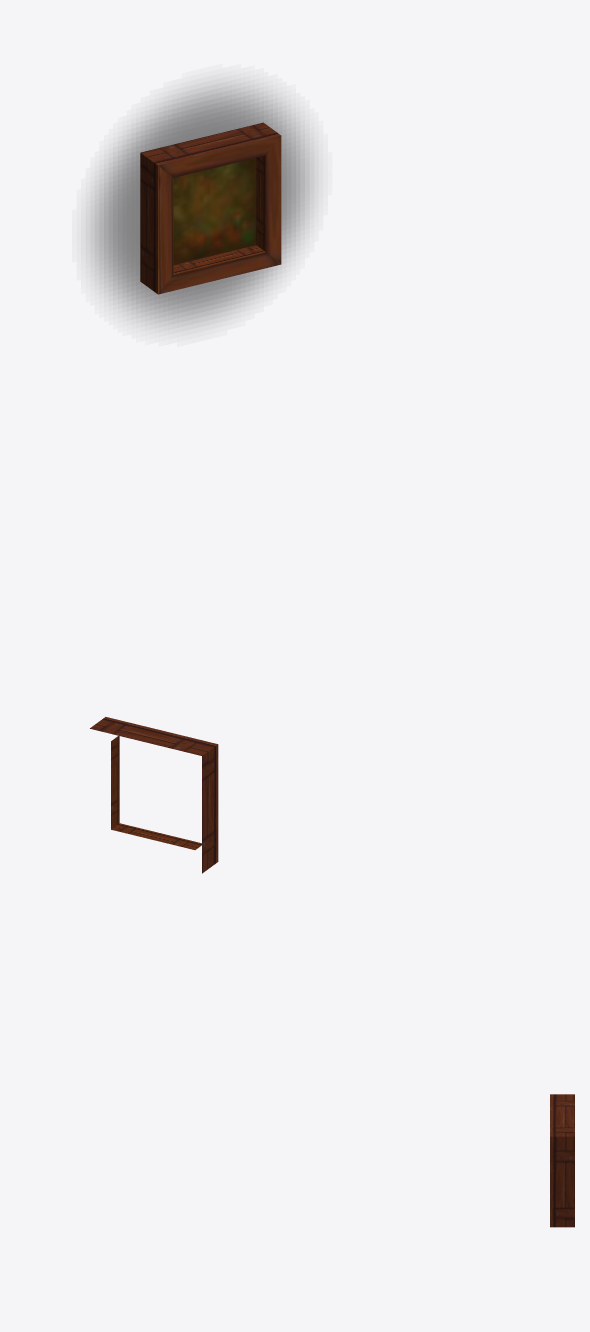
File: prop_snow_tree_large_woodbox_ul.glb
3 views of the same model, one above another, from view 1: azimuth 30°, elevation 25°; view 2: azimuth 150°, elevation 25°; view 3: azimuth 270°, elevation 25° (orthographic). The views are drawn at different scales.
Parts seen in each view (by area): view 1: shadow_snow_tree_large_woodbox_ul, tree_planter_box3; view 2: tree_planter_box3; view 3: tree_planter_box3.
Part boxes in pixels (x1,y1,x2,y2): shadow_snow_tree_large_woodbox_ul: (90,83,313,328); tree_planter_box3: (140,122,281,294); tree_planter_box3: (90,717,218,873); tree_planter_box3: (550,1094,574,1227).
Bounding box in the file's own units: 13.97 × 12.32 × 29.17.
Materials: 5 (5 with a texture image).
